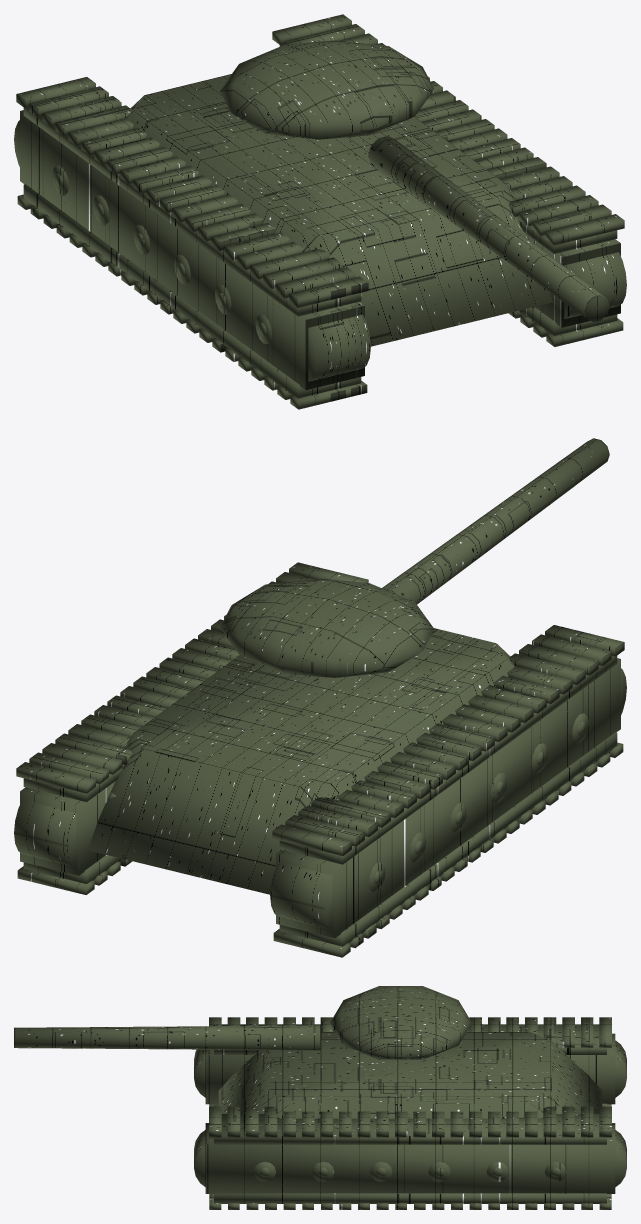
File: medium_tank_lod1.obj
3 views of the same model, one above another, from view 1: azimuth 30°, elevation 25°; view 2: azimuth 150°, elevation 25°; view 3: azimuth 270°, elevation 25° (orthographic). The views are drawn at different scales.
Parts seen in each view (by area): view 1: LOD1_Static; view 2: LOD1_Static; view 3: LOD1_Static.
Boxes of the visible parts, x1,y1,x2,y2 form: LOD1_Static: [14, 14, 626, 409]; LOD1_Static: [14, 438, 626, 957]; LOD1_Static: [14, 986, 626, 1209].
Bounding box in the file's own units: 3.42 × 2.1 × 7.76.
